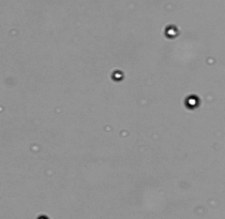Living Cell: (185, 94, 199, 109), (164, 25, 179, 38), (112, 70, 123, 80)
